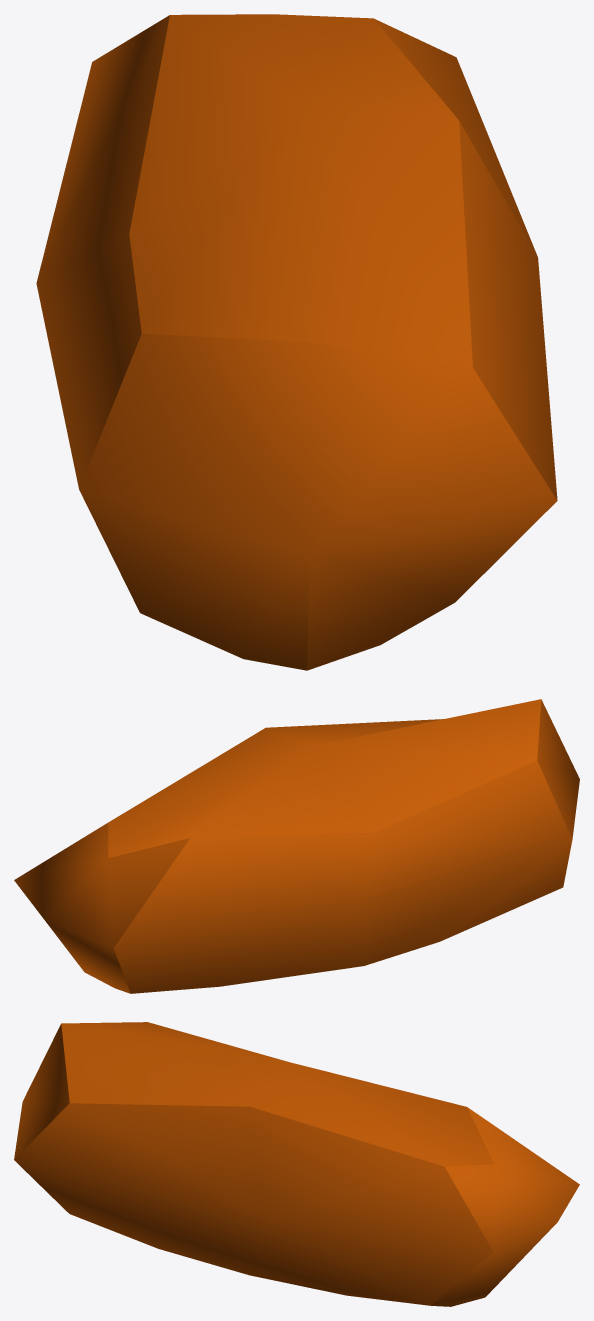
The model's file is small_rock_05.fbx.
3 renders of one model, top to bottom at view 1: azimuth 30°, elevation 25°; view 2: azimuth 150°, elevation 25°; view 3: azimuth 270°, elevation 25°, orthographic. The views are drawn at different scales.
Visible parts, largest first — view 1: small_rock05; view 2: small_rock05; view 3: small_rock05.
Boxes of the visible parts, box(x1,y1,x2,y2) form: small_rock05: box(36, 14, 557, 670); small_rock05: box(14, 699, 579, 993); small_rock05: box(14, 1022, 579, 1306).
Bounding box in the file's own units: 1.31 × 0.6059 × 1.77.
